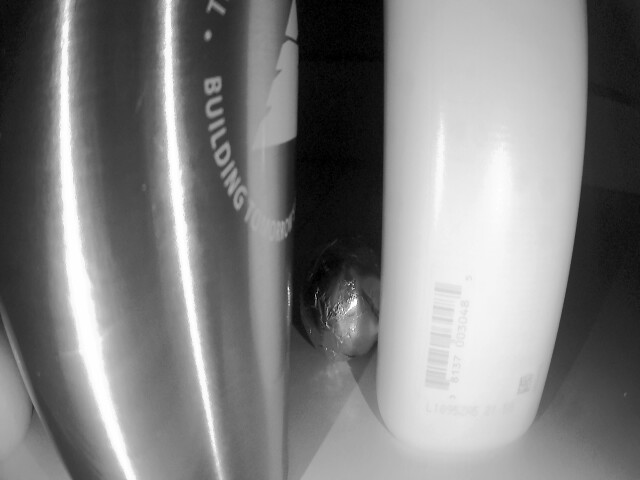silver: (302, 242, 404, 372)
